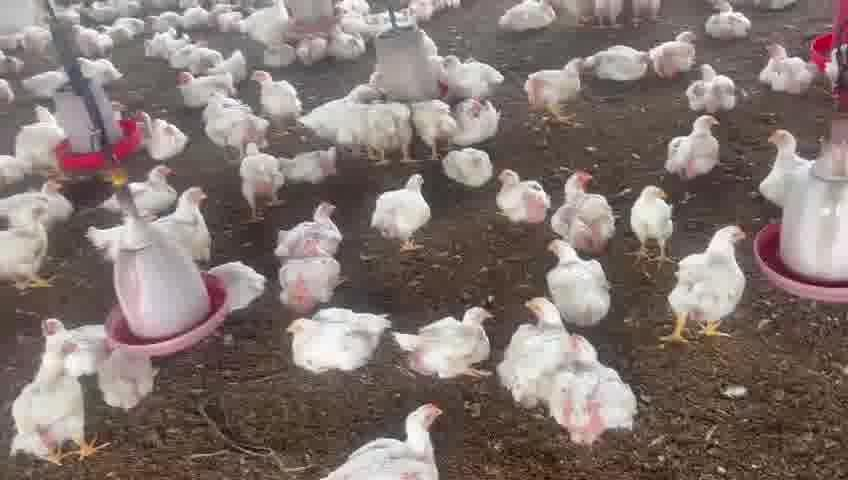AbNormal: (286, 145, 345, 192)
Normal: (20, 325, 107, 465), (668, 228, 758, 356), (328, 400, 461, 480), (385, 300, 499, 391), (498, 286, 585, 400), (557, 336, 638, 454), (542, 240, 618, 345), (287, 306, 391, 377), (546, 163, 626, 250), (366, 173, 438, 258), (275, 240, 353, 310), (4, 199, 61, 288), (164, 181, 222, 264), (525, 61, 592, 129), (349, 101, 416, 168), (664, 115, 729, 183), (683, 60, 750, 124), (626, 183, 678, 265), (233, 139, 288, 207), (494, 169, 557, 228), (755, 39, 819, 92), (277, 204, 346, 251), (208, 96, 270, 144), (252, 69, 314, 117), (171, 65, 240, 105), (648, 33, 703, 79), (139, 109, 193, 155), (442, 140, 488, 191)
